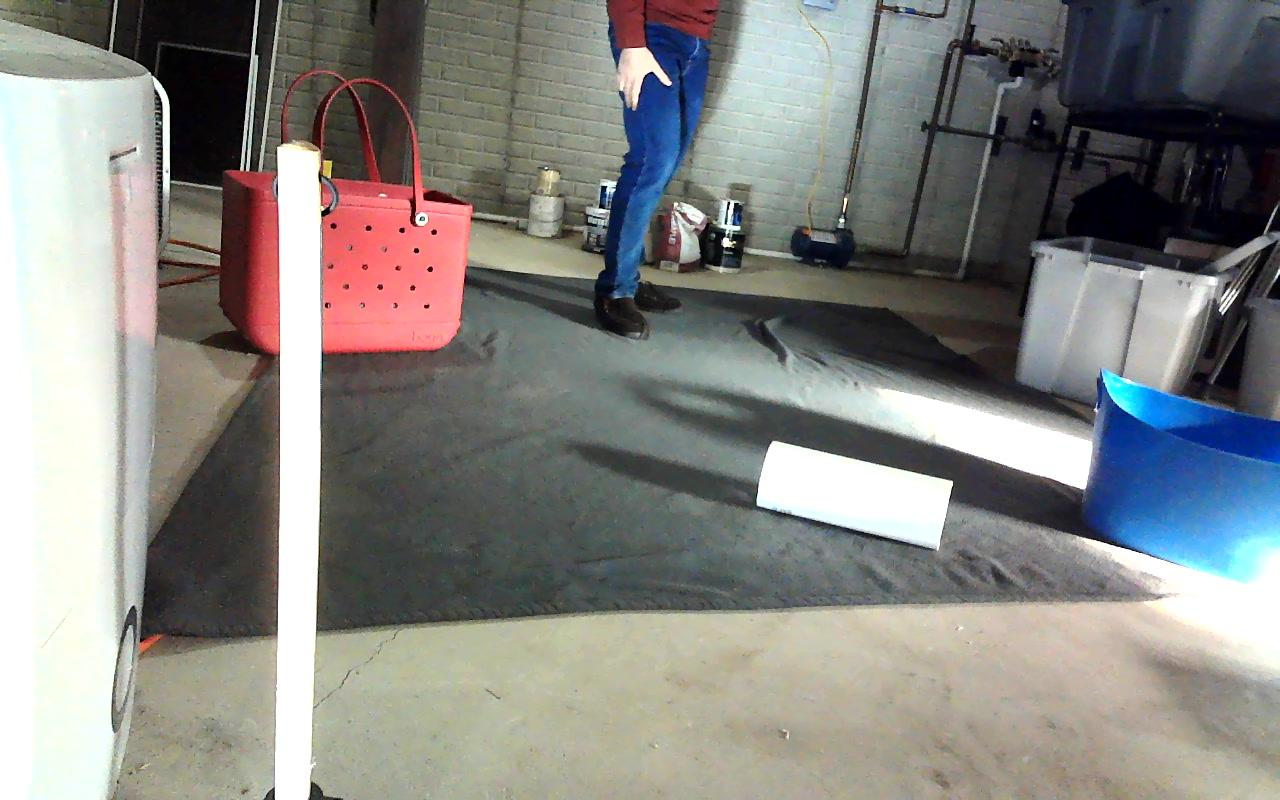coral: (757, 442, 954, 546)
